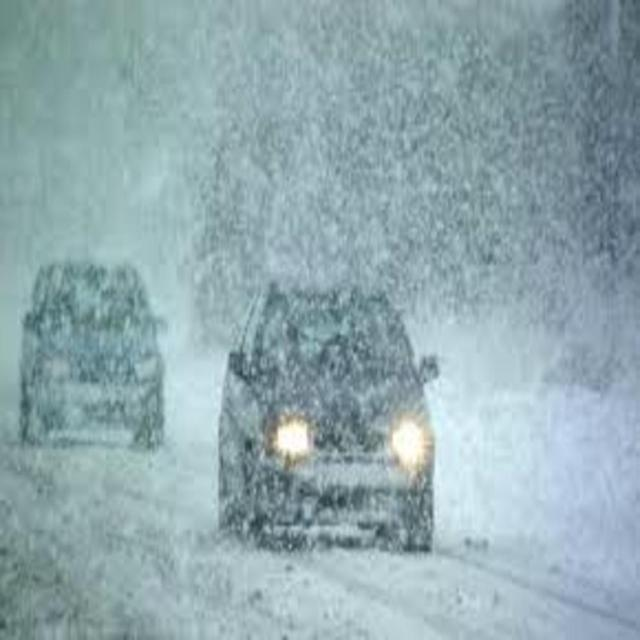car: (221, 270, 439, 558), (20, 261, 168, 449)
